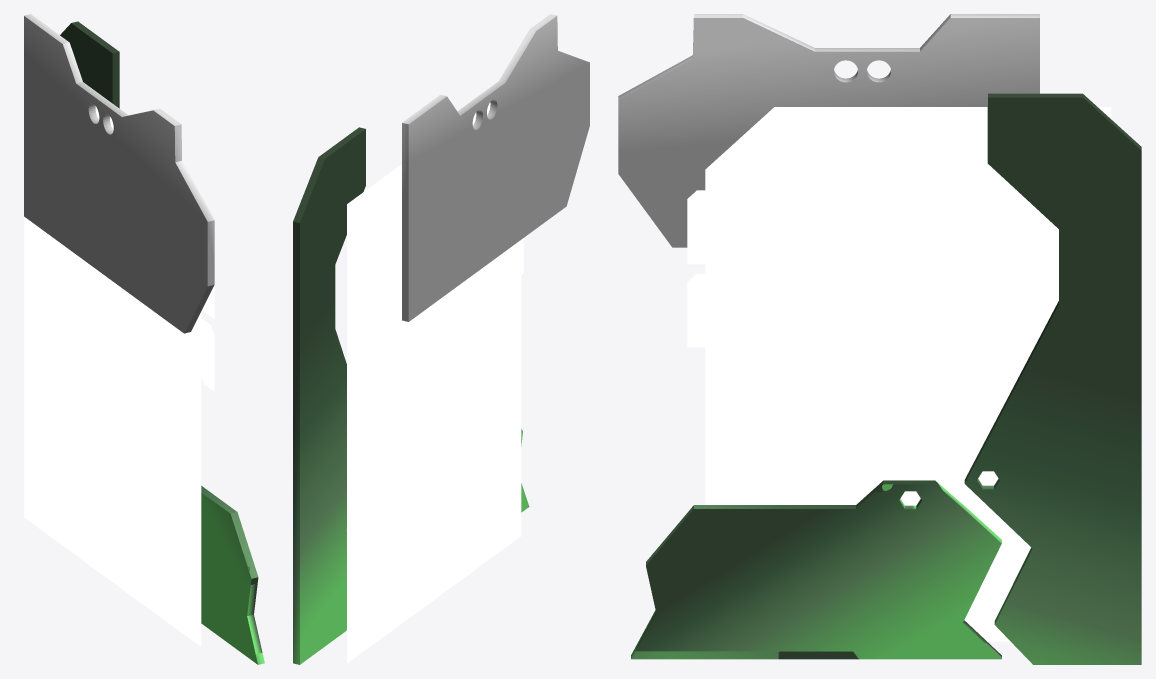
Rendered from futuristic-card.glb.
3 renders of one model, left to right at view 1: azimuth 30°, elevation 25°; view 2: azimuth 150°, elevation 25°; view 3: azimuth 270°, elevation 25°, orthographic. The views are drawn at different scales.
Parts seen in each view (by area): view 1: profile_plane, back_card, front_bottom_card, side_front_card, clip02; view 2: profile_plane, back_card, side_front_card; view 3: profile_plane, side_front_card, front_bottom_card, back_card, clip02, clip01.
Boxes of the visible parts, x1,y1,x2,y2 form: profile_plane: (24,106,201,646); back_card: (24,14,214,333); front_bottom_card: (201,486,264,664); side_front_card: (60,21,119,108); clip02: (201,318,214,391); profile_plane: (347,102,521,663); back_card: (402,14,589,321); side_front_card: (293,127,365,664); profile_plane: (705,107,1111,641); side_front_card: (964,93,1141,664); front_bottom_card: (631,480,1001,659); back_card: (618,14,1039,247); clip02: (687,273,743,347); clip01: (687,190,743,264).
Bounding box in the file's own units: 0.4024 × 2.8 × 2.18.
4 materials, 3 textured.
